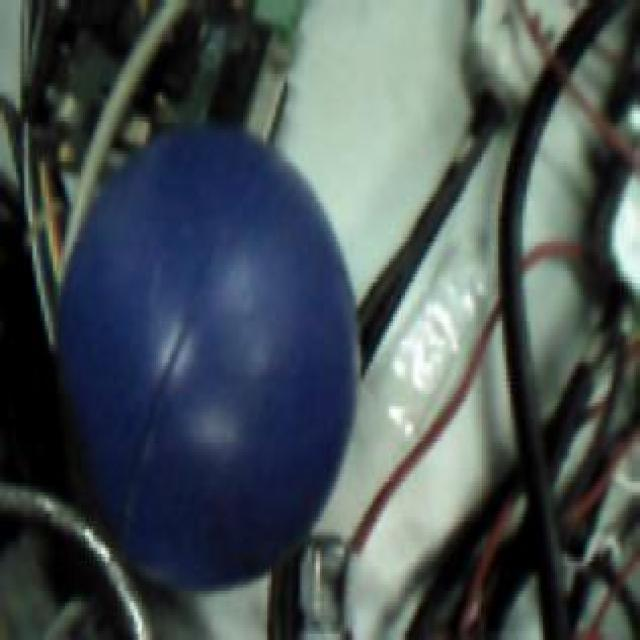BallPurple: (61, 118, 360, 592)
